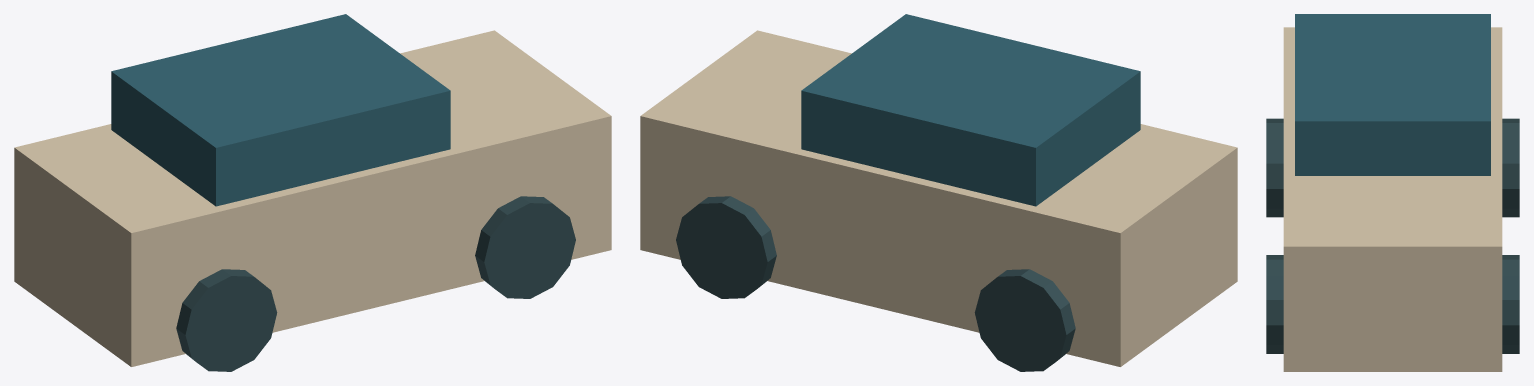
File: city-car.glb
The picture shows the model from 3 angles, left to right: view 1: azimuth 30°, elevation 25°; view 2: azimuth 150°, elevation 25°; view 3: azimuth 270°, elevation 25°; orthographic projection. The views are drawn at different scales.
Parts seen in each view (by area): view 1: city-car; view 2: city-car; view 3: city-car.
Part boxes in pixels (x1,y1,x2,y2): city-car: [14, 14, 611, 371]; city-car: [640, 14, 1237, 371]; city-car: [1266, 14, 1519, 371].
Bounding box in the file's own units: 4.5 × 1.91 × 2.2.
